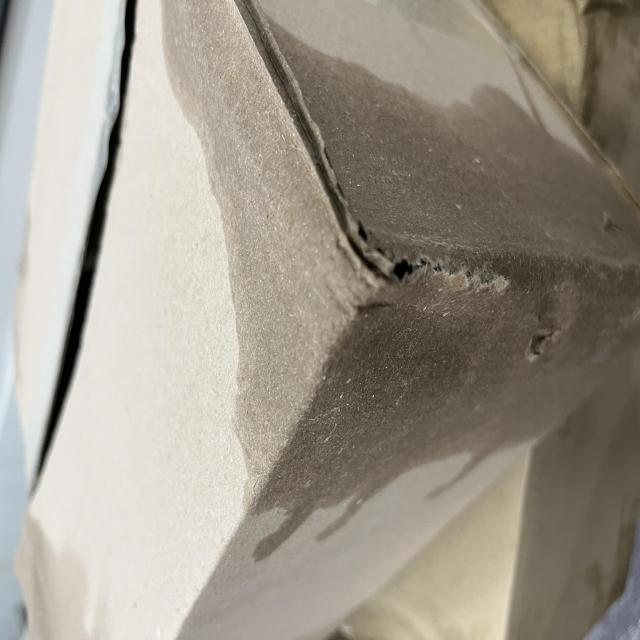wet: (76, 205, 480, 640)
